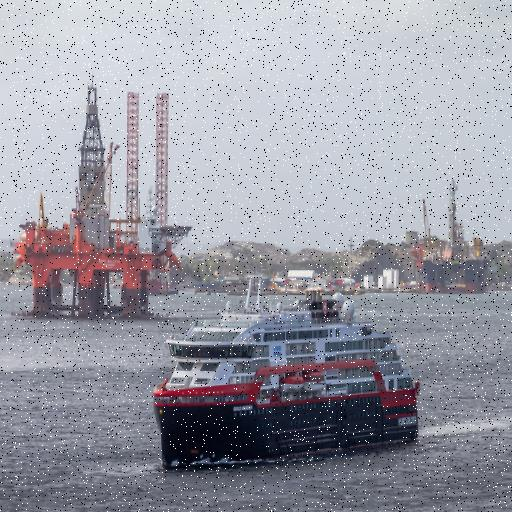cruises: (158, 276, 430, 468)
